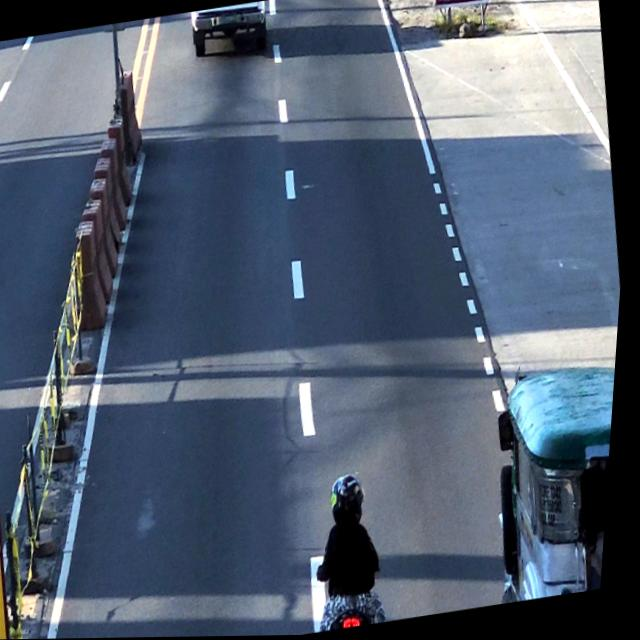Jeep: (477, 353, 621, 605)
Motorcycle: (302, 472, 409, 634)
